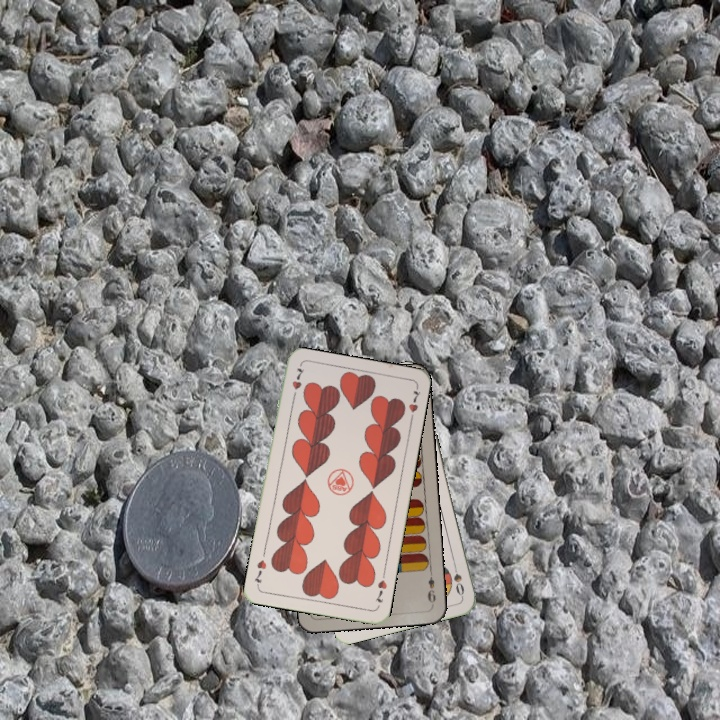E9: (423, 567, 438, 607)
H7: (371, 568, 390, 605), (288, 364, 306, 402)
SO: (449, 559, 467, 599)
